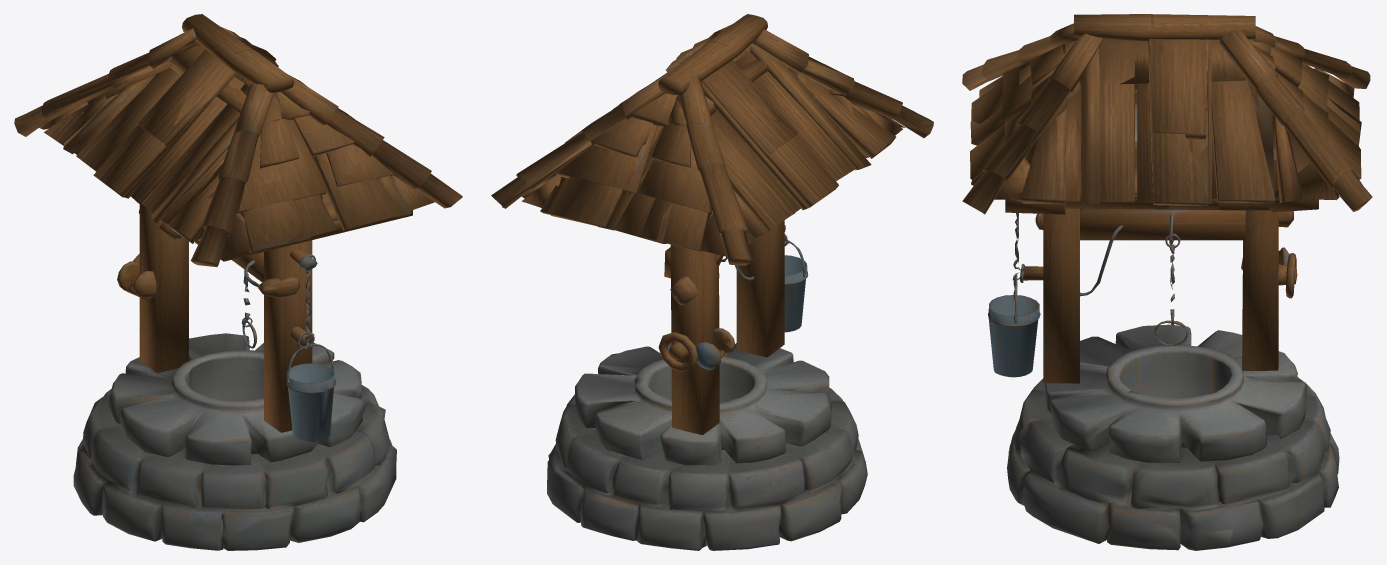
The model's file is well.glb.
3 renders of one model, left to right at view 1: azimuth 30°, elevation 25°; view 2: azimuth 150°, elevation 25°; view 3: azimuth 270°, elevation 25°, orthographic. The views are drawn at different scales.
Bounding box in the file's own units: 0.6318 × 0.9512 × 0.7652.
1 material, 1 textured.
